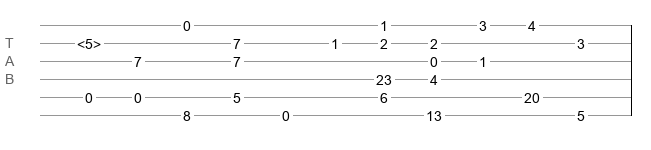0: (85, 90, 93, 100), (134, 90, 142, 100), (183, 18, 191, 28), (282, 108, 290, 118), (430, 54, 438, 64)
1: (331, 36, 339, 46), (380, 18, 388, 28), (479, 54, 487, 64)
13: (426, 108, 442, 118)
2: (380, 36, 388, 46), (430, 36, 438, 46)
20: (524, 90, 540, 100)
23: (376, 72, 392, 82)
3: (479, 18, 487, 28), (577, 36, 585, 46)
4: (430, 72, 438, 82), (528, 18, 536, 28)
5: (233, 90, 241, 100), (577, 108, 585, 118)
6: (380, 90, 388, 100)
7: (134, 54, 142, 64), (233, 54, 241, 64), (233, 36, 241, 46)
8: (183, 108, 191, 118)
harmonic: (77, 36, 101, 46)
